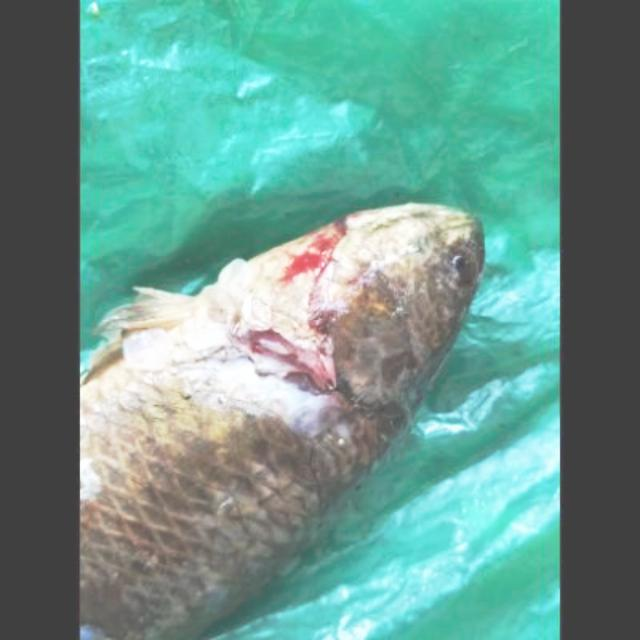Flavobacterium -Bacterial Gill Disease-: (81, 204, 482, 640)
